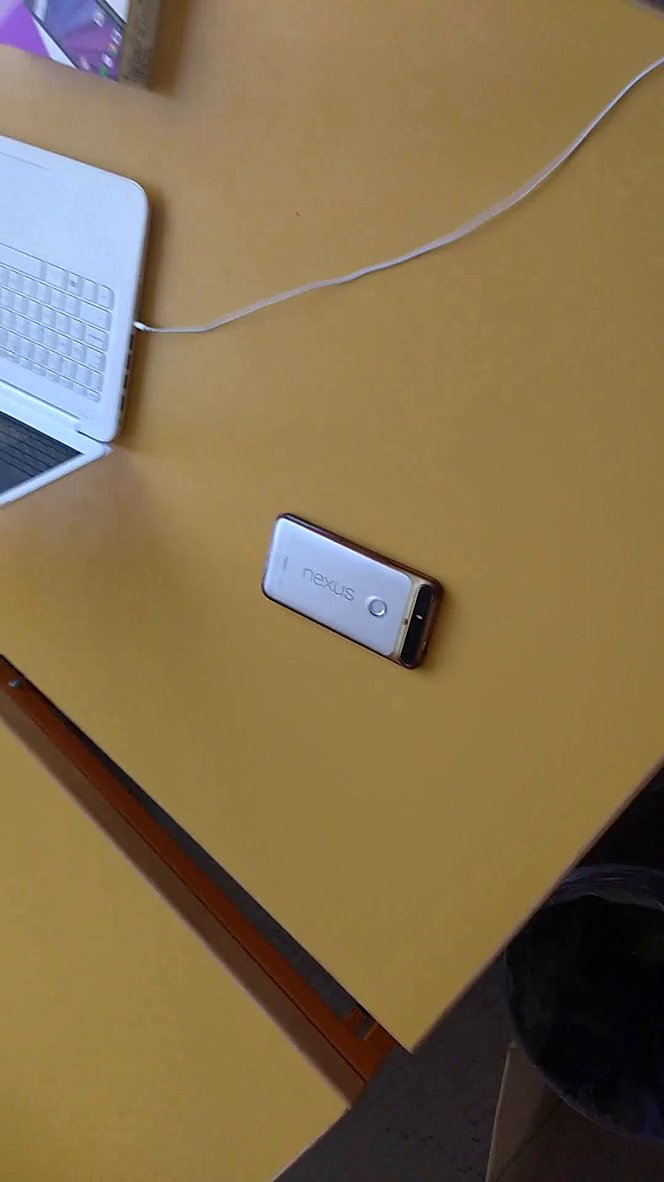phone: (253, 508, 477, 687)
